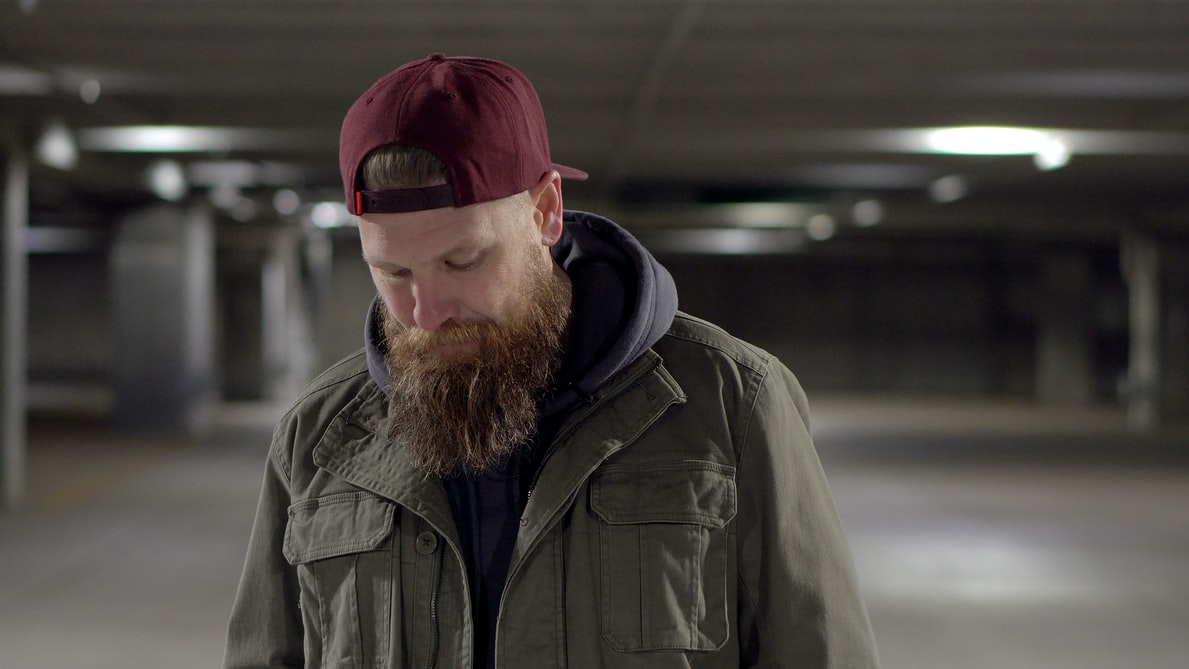beard: (385, 309, 567, 477)
